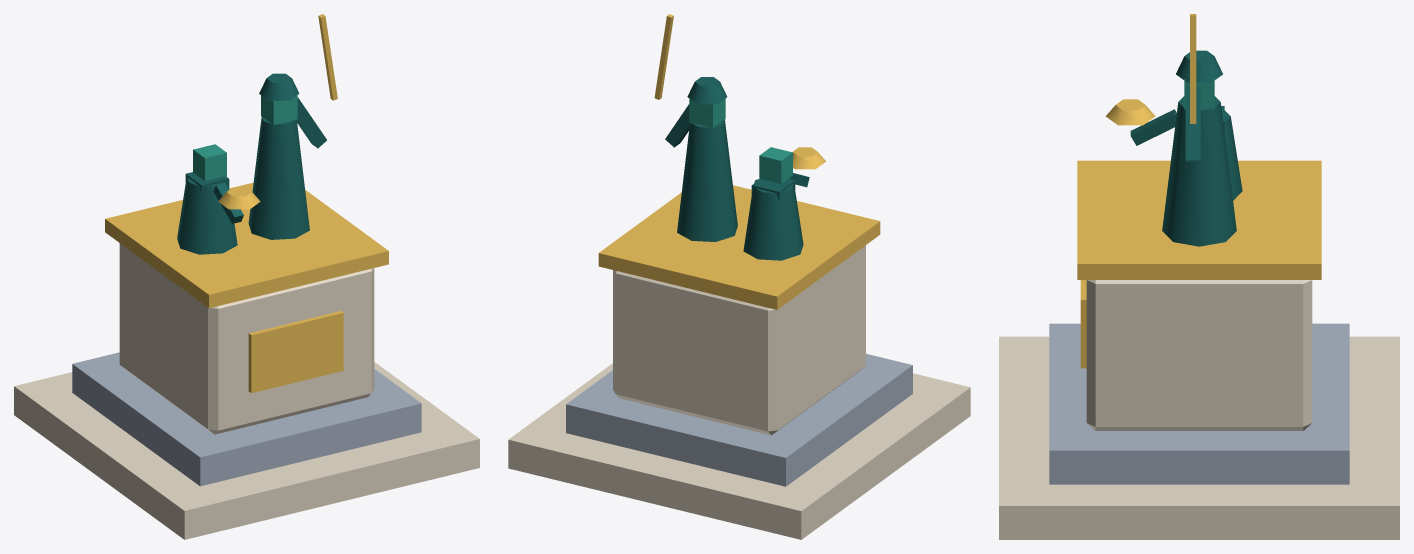
File: prop_monument.glb
3 views of the same model, side by side, from view 1: azimuth 30°, elevation 25°; view 2: azimuth 150°, elevation 25°; view 3: azimuth 270°, elevation 25° (orthographic). The views are drawn at different scales.
Parts seen in each view (by area): view 1: prop_monument; view 2: prop_monument; view 3: prop_monument.
Part boxes in pixels (bbox=[...]): prop_monument: bbox=[14, 14, 479, 539]; prop_monument: bbox=[508, 14, 970, 539]; prop_monument: bbox=[999, 14, 1399, 539].
Bounding box in the file's own units: 3.2 × 4.25 × 3.2.
Materials: 1 (1 with a texture image).
